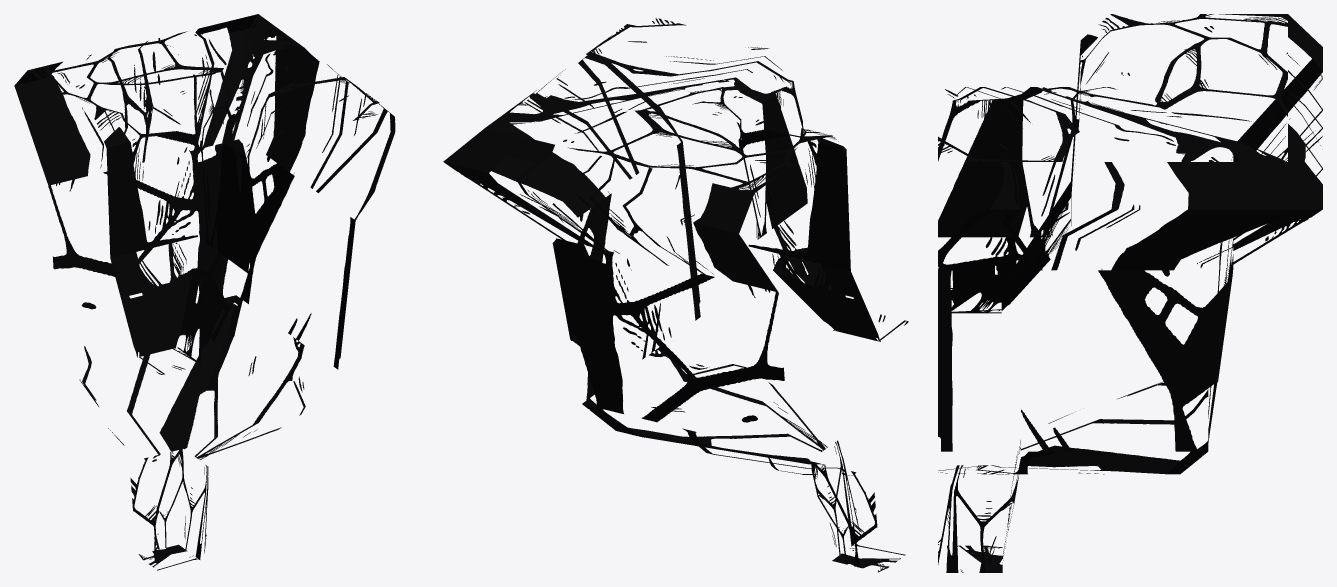
The model's file is Model_Environment_RooftopCorner.fbx.
The picture shows the model from 3 angles, left to right: view 1: azimuth 30°, elevation 25°; view 2: azimuth 150°, elevation 25°; view 3: azimuth 270°, elevation 25°; orthographic projection. The views are drawn at different scales.
Visible parts, largest first — view 1: RooftopCorner_low; view 2: RooftopCorner_low; view 3: RooftopCorner_low.
Part boxes in pixels (bbox=[...]): RooftopCorner_low: bbox=[14, 14, 395, 570]; RooftopCorner_low: bbox=[443, 18, 908, 572]; RooftopCorner_low: bbox=[938, 14, 1322, 572].
Size of the model in its own units: 0.4478 by 0.683 by 0.4478.
